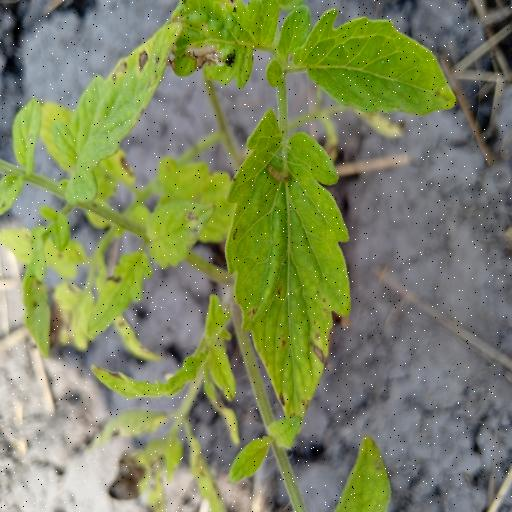Tomato_Brown_Spots: (221, 97, 355, 423), (280, 0, 457, 120), (68, 14, 187, 190)
